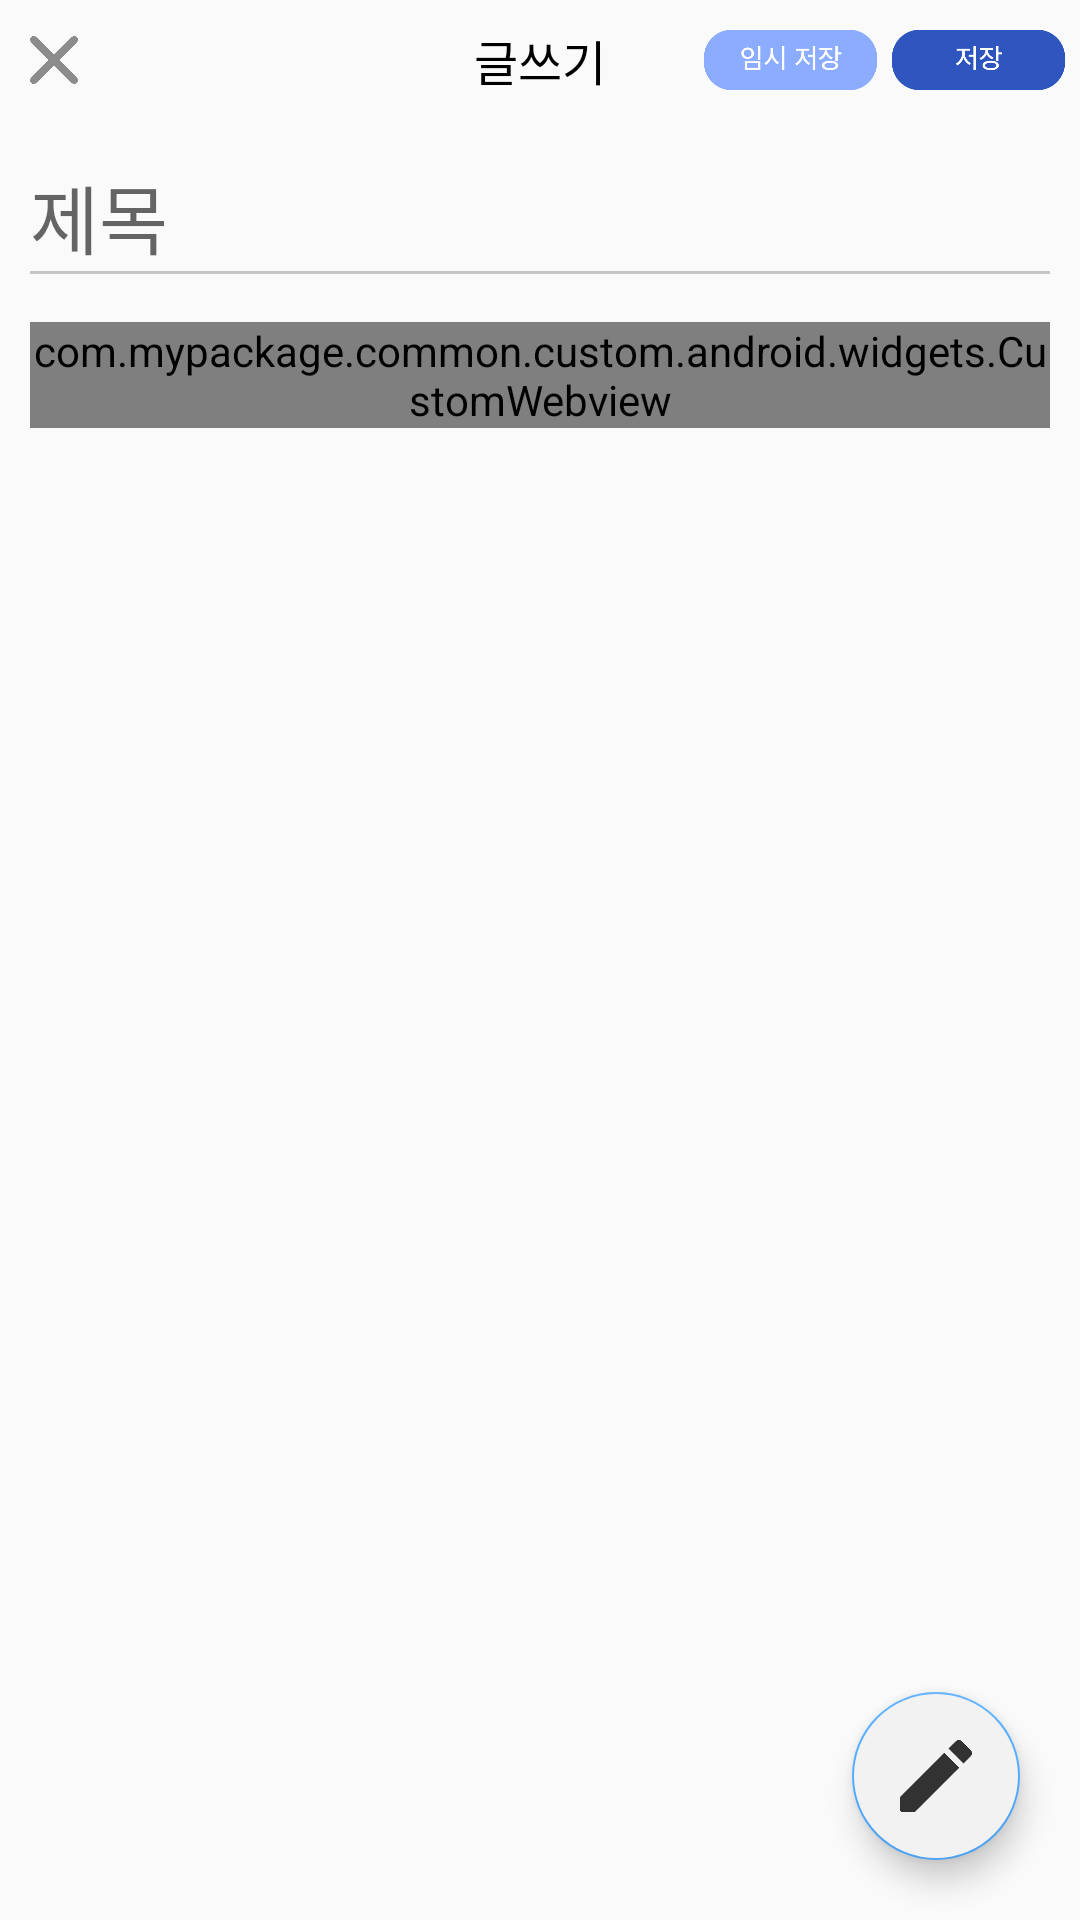

Locate icon controls on the screen. Image size 1080x1920, boxes as (x1, y1, x2, y2).
close: (30, 36, 78, 84)
edit: (852, 1692, 1020, 1860)
